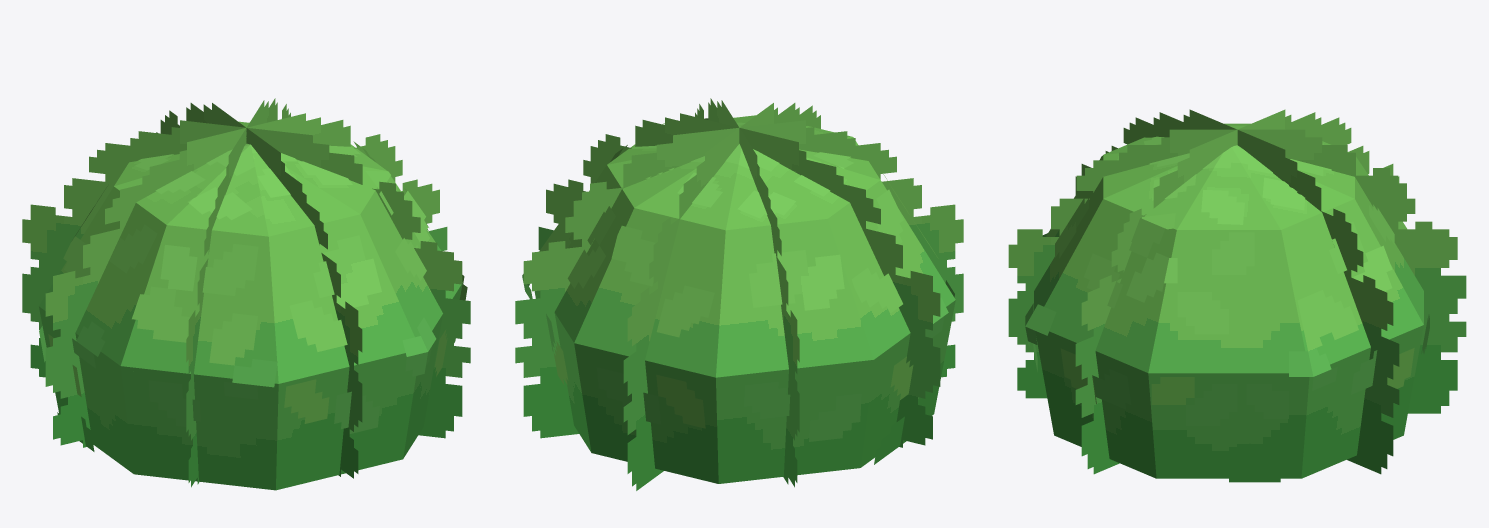
File: kust1.gltf
3 views of the same model, side by side, from view 1: azimuth 30°, elevation 25°; view 2: azimuth 150°, elevation 25°; view 3: azimuth 270°, elevation 25° (orthographic).
Visible parts, largest first — view 1: K1; view 2: K1; view 3: K1.
Boxes of the visible parts, <box> form: K1: <box>22,98,470,490</box>; K1: <box>515,98,963,490</box>; K1: <box>1008,109,1466,482</box>.
Size of the model in its own units: 3.5 by 2.44 by 3.5.
Materials: 1 (1 with a texture image).
